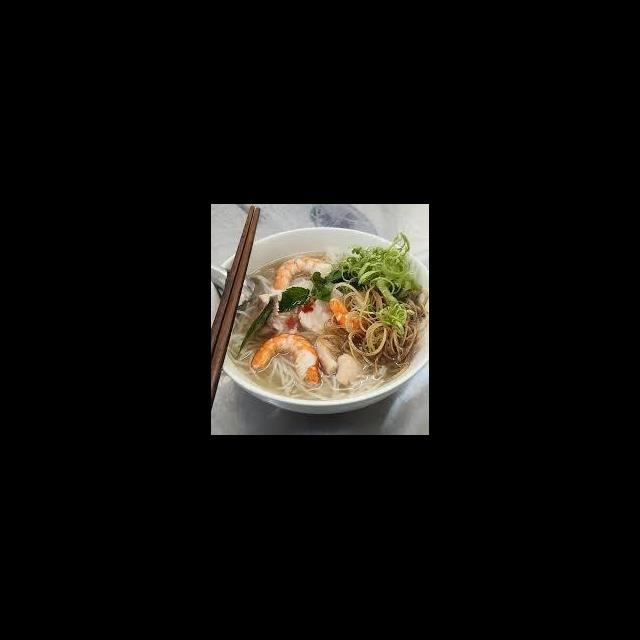bun: (267, 356, 386, 402), (226, 296, 264, 369)
bun ca: (231, 229, 429, 435)
ca: (296, 294, 339, 336), (310, 334, 343, 376), (334, 350, 367, 388)
tom: (248, 329, 322, 386), (273, 252, 335, 296), (328, 290, 372, 336)
